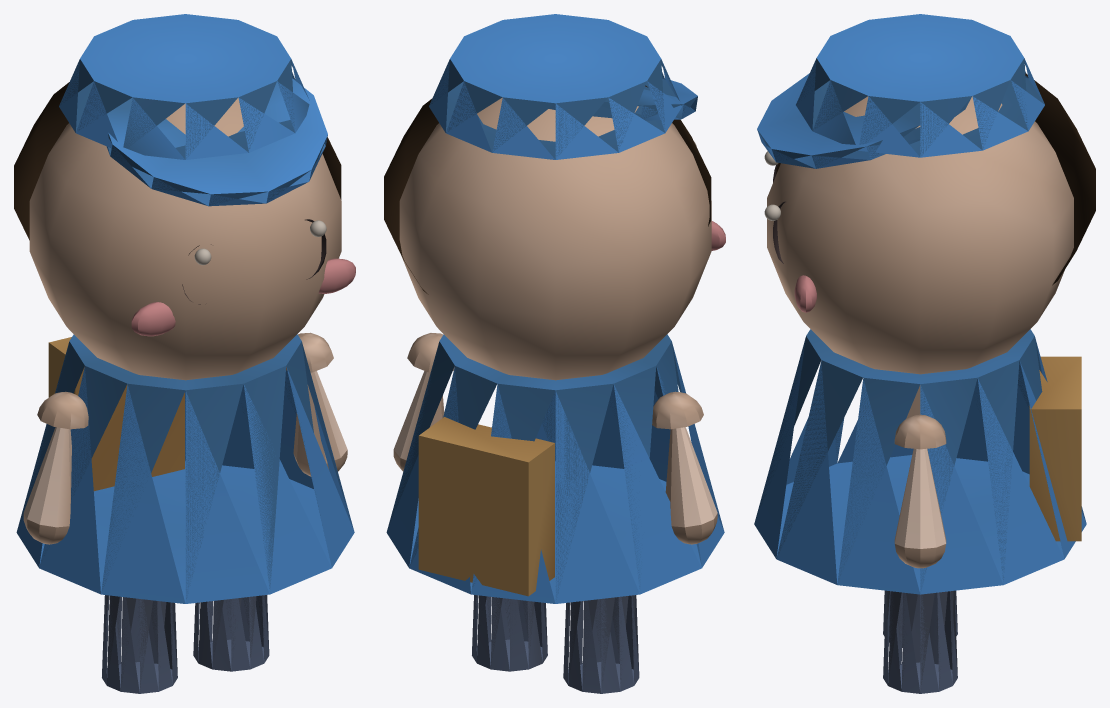
3 renders of one model, left to right at view 1: azimuth 30°, elevation 25°; view 2: azimuth 150°, elevation 25°; view 3: azimuth 270°, elevation 25°, orthographic.
Visible parts, largest first — view 1: pet_p6e9aa89f; view 2: pet_p6e9aa89f; view 3: pet_p6e9aa89f.
Part boxes in pixels (<box>): pet_p6e9aa89f: <box>14,14,355,693</box>; pet_p6e9aa89f: <box>384,14,725,693</box>; pet_p6e9aa89f: <box>754,14,1095,693</box>.
Bounding box in the file's own units: 0.3464 × 0.635 × 0.3287.
